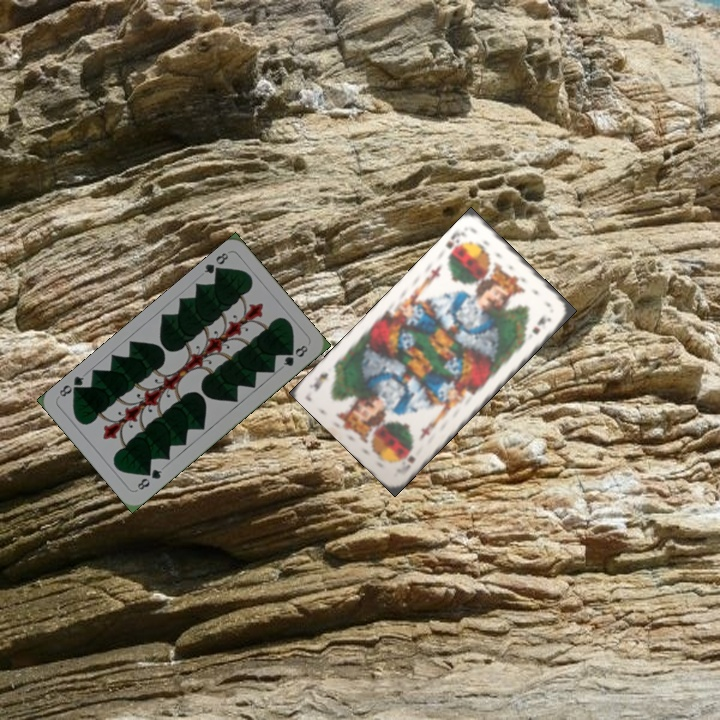G8: (200, 248, 231, 279), (133, 465, 165, 493)
SK: (442, 227, 469, 261), (392, 452, 418, 476)
